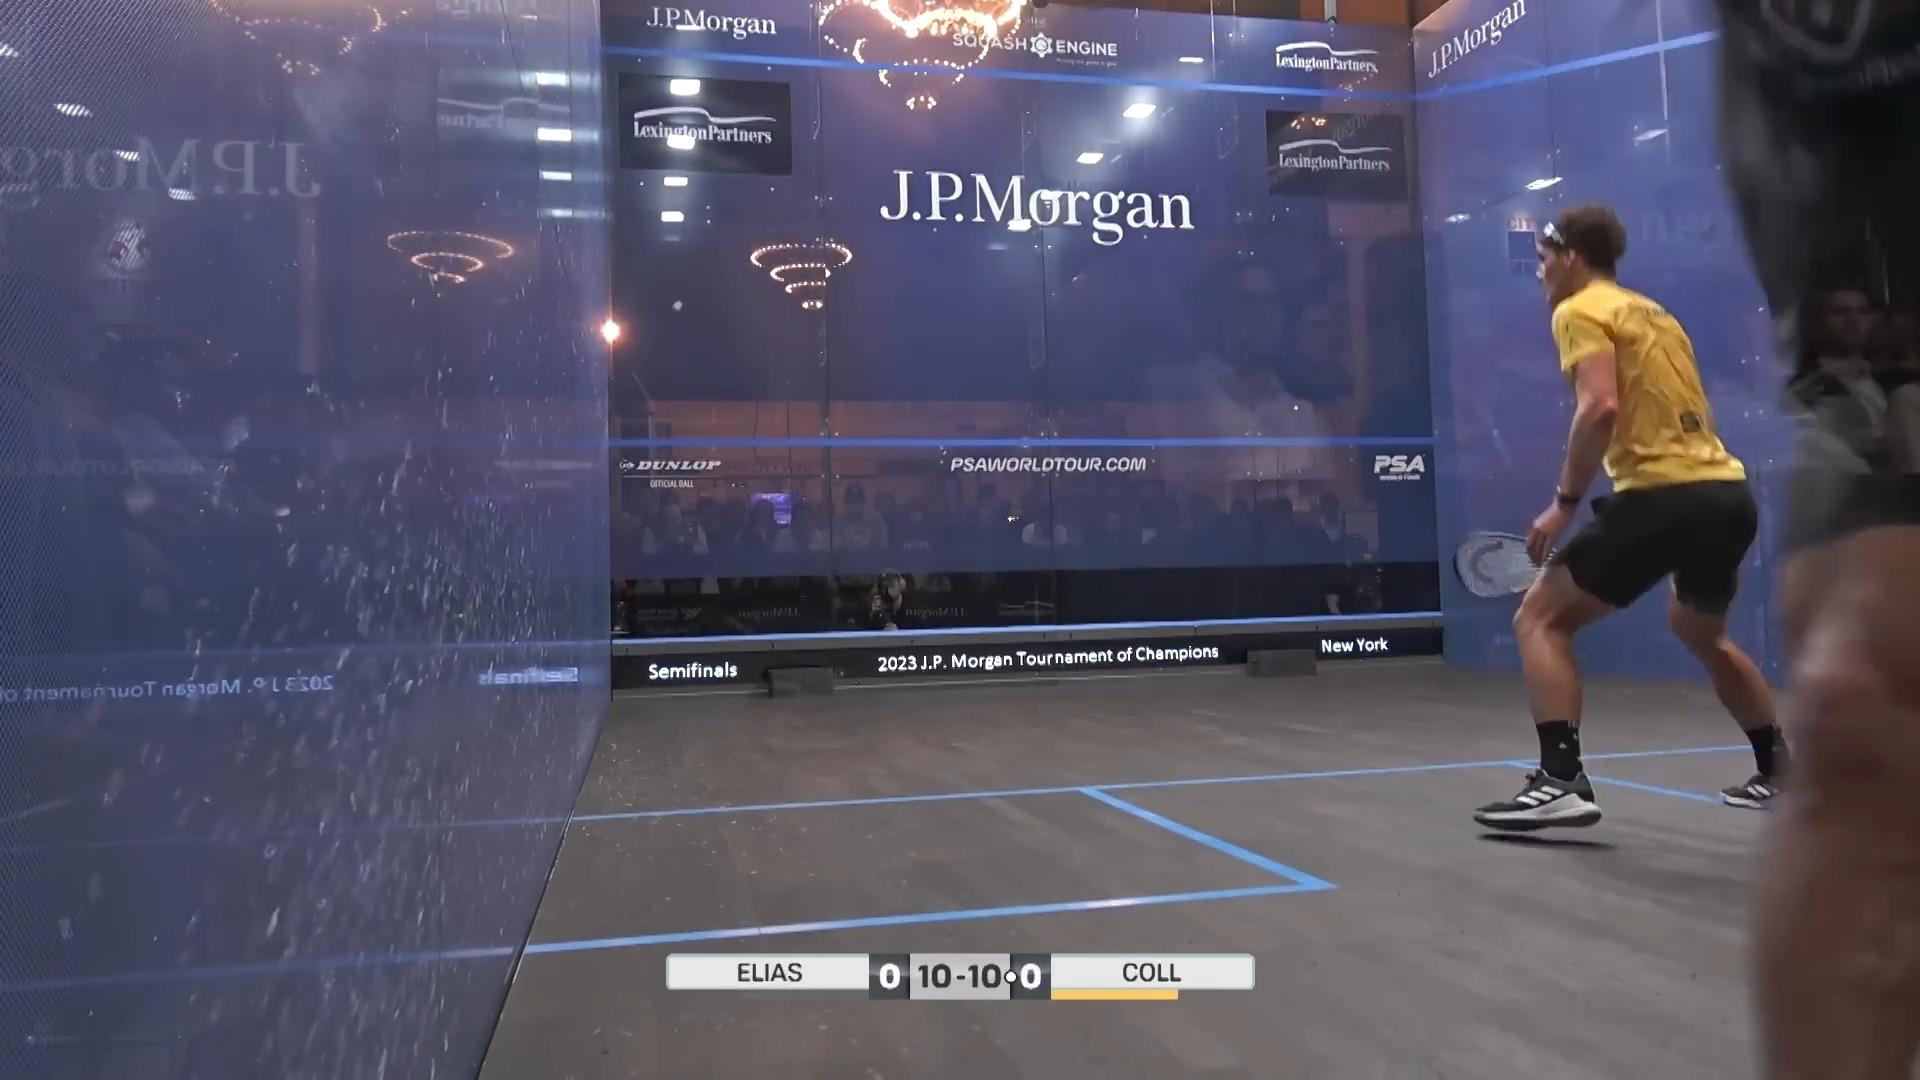Racket: (1449, 522, 1543, 603)
